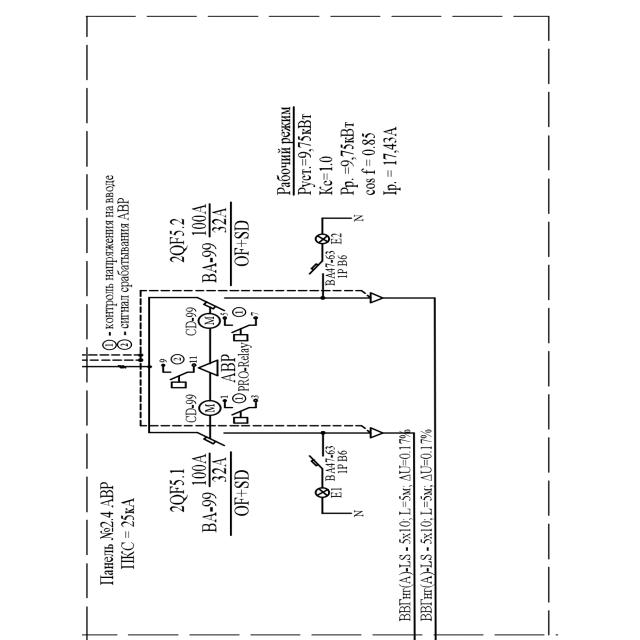-: (189, 449, 255, 536), (190, 199, 254, 287), (94, 480, 140, 586), (323, 442, 353, 482), (323, 249, 350, 286), (182, 304, 198, 337), (183, 394, 199, 424)
AVR: (218, 351, 238, 387)
HL: (314, 486, 331, 499), (312, 232, 330, 244)
ITU: (168, 380, 188, 390), (230, 333, 250, 342), (231, 416, 251, 424)
M: (197, 399, 222, 416), (197, 312, 222, 329)
QF: (195, 429, 228, 447), (196, 295, 228, 311), (308, 261, 326, 277), (308, 454, 326, 470)
QS: (165, 369, 187, 381), (228, 322, 250, 334), (227, 405, 249, 416)
